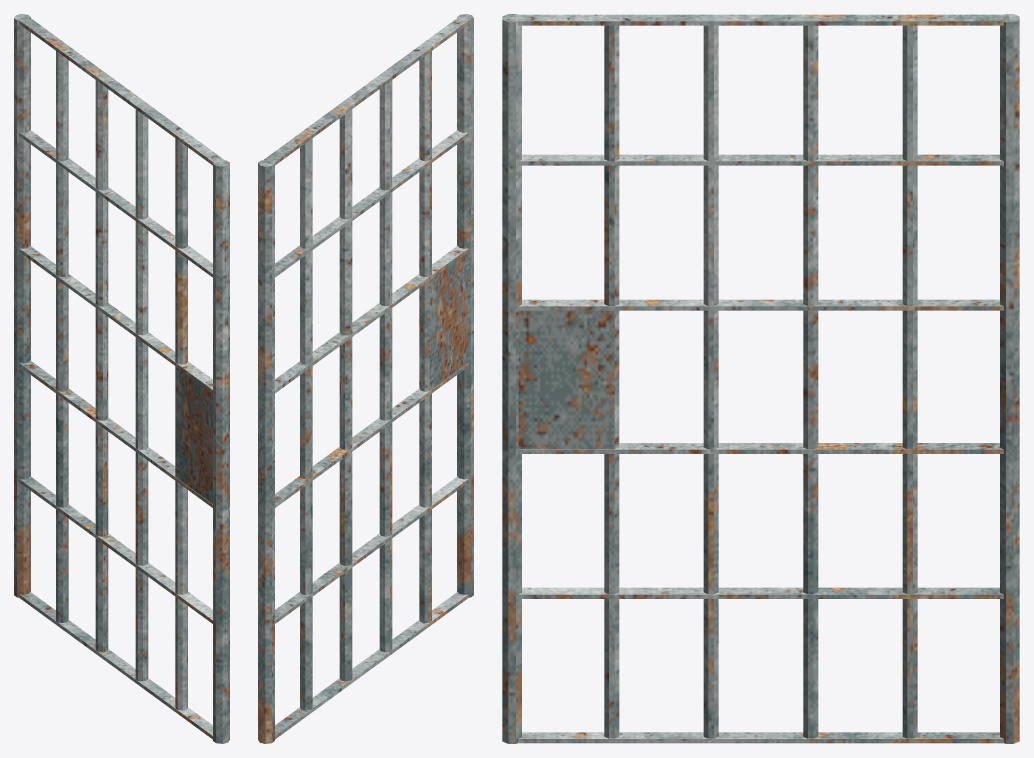
Rendered from cell_door.glb.
3 renders of one model, left to right at view 1: azimuth 30°, elevation 25°; view 2: azimuth 150°, elevation 25°; view 3: azimuth 270°, elevation 25°, orthographic. The views are drawn at different scales.
Visible parts, largest first — view 1: cell_wall.001; view 2: cell_wall.001; view 3: cell_wall.001.
Part boxes in pixels (x1,y1,x2,y2): cell_wall.001: (14,14,229,743); cell_wall.001: (258,14,473,743); cell_wall.001: (502,14,1019,743).
Bounding box in the file's own units: 0.1 × 4 × 2.6.
Materials: 1 (1 with a texture image).
